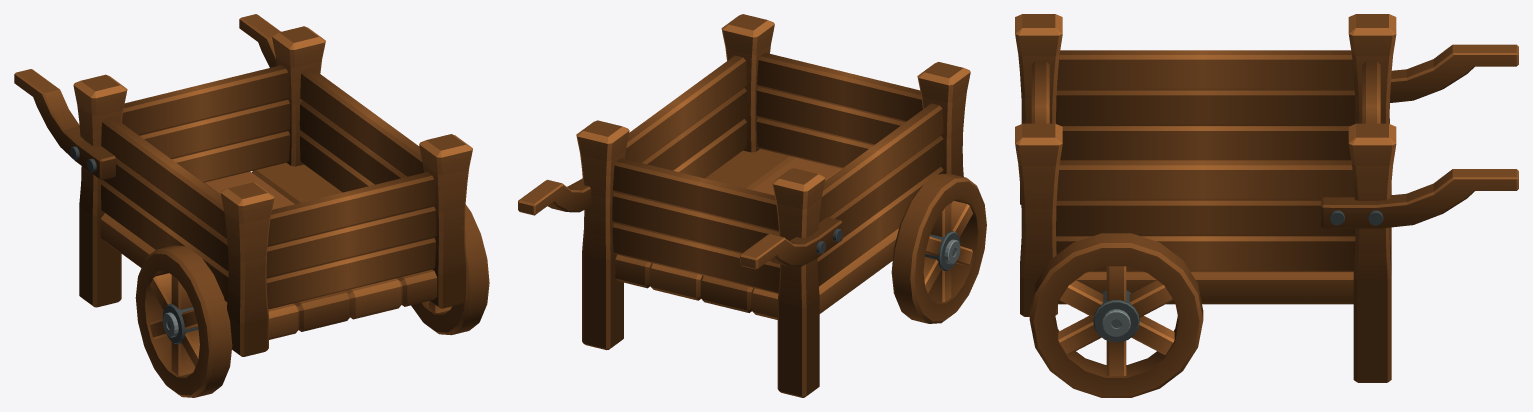
Rendered from Cart-2.fbx.
3 views of the same model, side by side, from view 1: azimuth 30°, elevation 25°; view 2: azimuth 150°, elevation 25°; view 3: azimuth 270°, elevation 25° (orthographic). The views are drawn at different scales.
Visible parts, largest first — view 1: Cart-2; view 2: Cart-2; view 3: Cart-2.
Boxes of the visible parts, box(x1,y1,x2,y2) form: Cart-2: box(14, 14, 489, 397); Cart-2: box(518, 14, 986, 397); Cart-2: box(1015, 14, 1518, 397).
Bounding box in the file's own units: 259 × 186 × 345.
